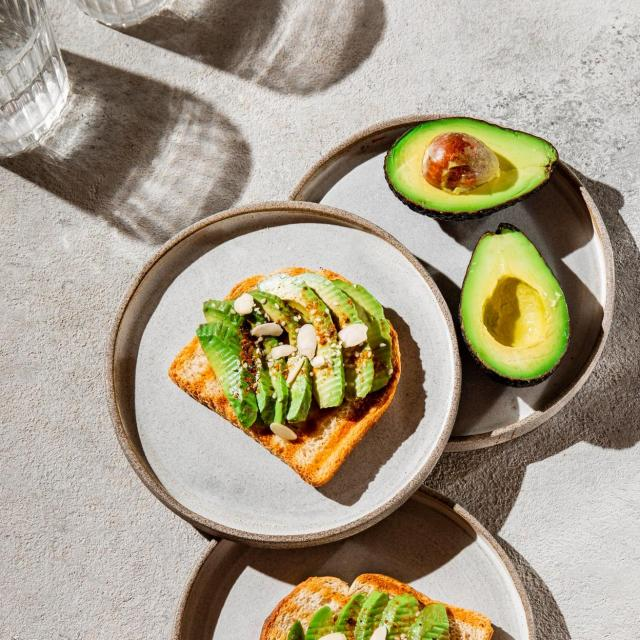aguacate: (443, 222, 584, 386), (374, 113, 570, 218)
